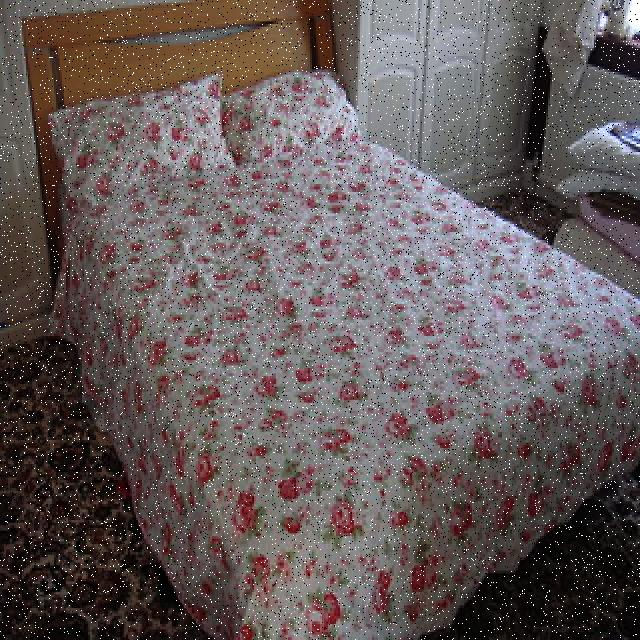bed: (48, 62, 640, 640)
